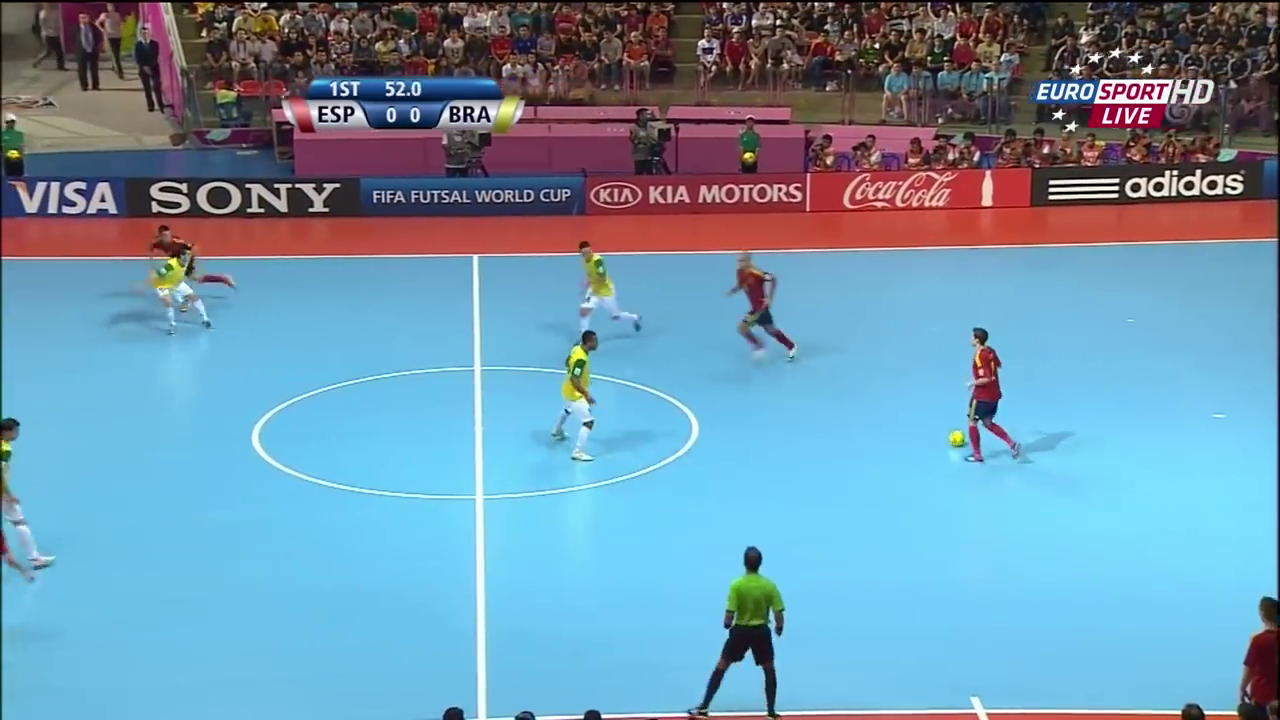ball: (947, 428, 967, 445)
person: (716, 248, 802, 365), (1, 414, 61, 570), (967, 324, 1029, 469), (565, 238, 647, 339), (551, 328, 603, 466), (143, 224, 240, 297), (136, 251, 215, 334)
